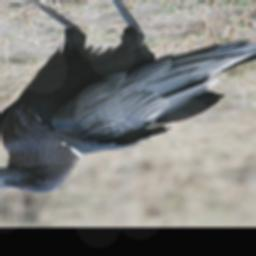Crow: (0, 0, 256, 193)
